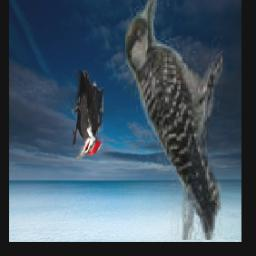Woodpecker: (124, 0, 222, 240), (71, 71, 103, 161)
